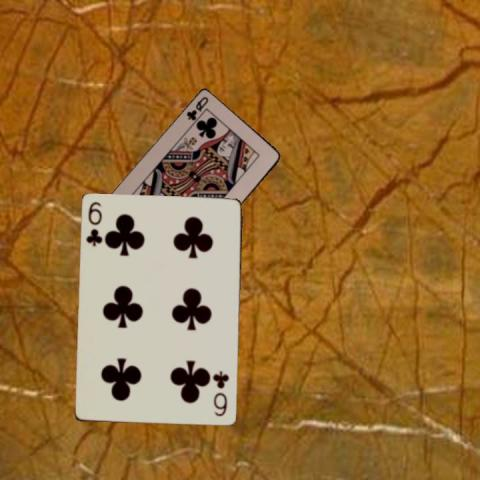6c: (83, 199, 104, 248), (210, 369, 230, 418)
Qc: (183, 94, 210, 123)
